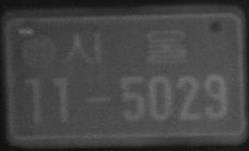-: (86, 93, 112, 106)
0: (148, 74, 174, 123)
1: (48, 76, 79, 124), (20, 77, 48, 125)
2: (174, 75, 202, 121)
5: (117, 75, 148, 121)
9: (202, 73, 229, 121)
서울_D: (63, 28, 191, 67)
영: (20, 33, 58, 68)
